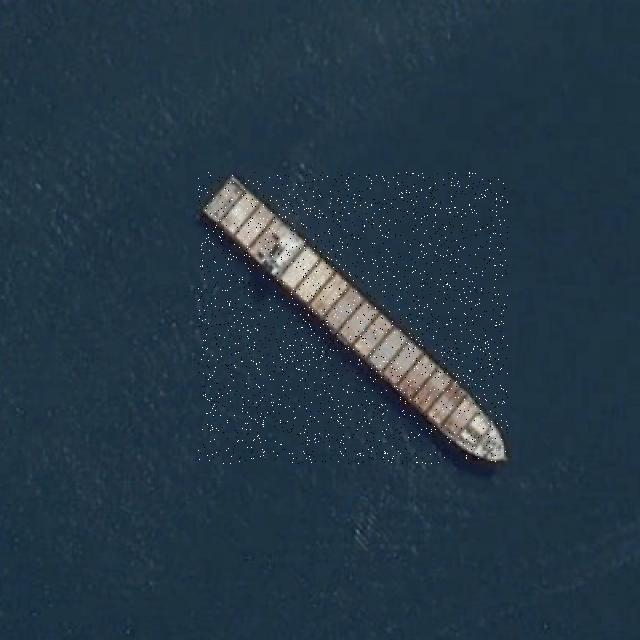boat: (198, 172, 508, 464)
